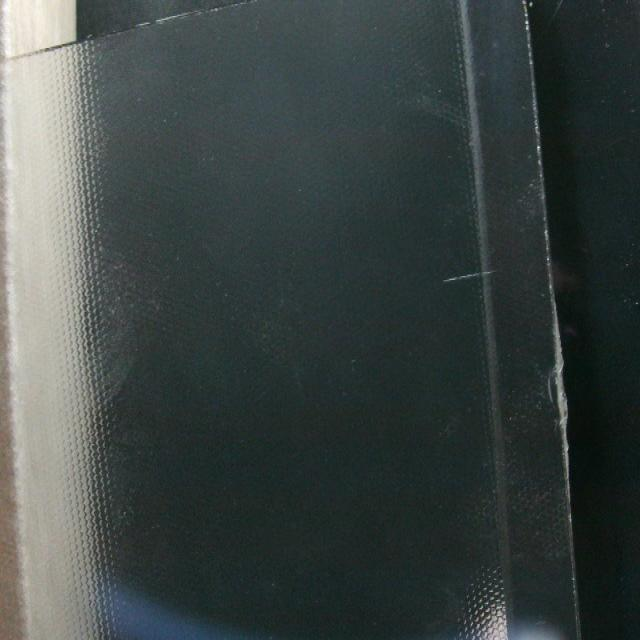edge_chip: (542, 288, 578, 494)
scratch: (438, 263, 502, 292)
